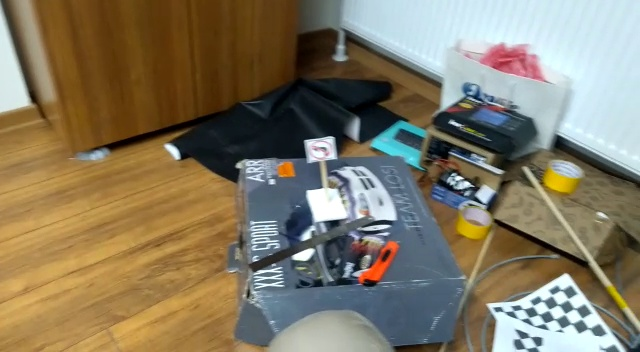sola_donulmez: (307, 136, 334, 161)
